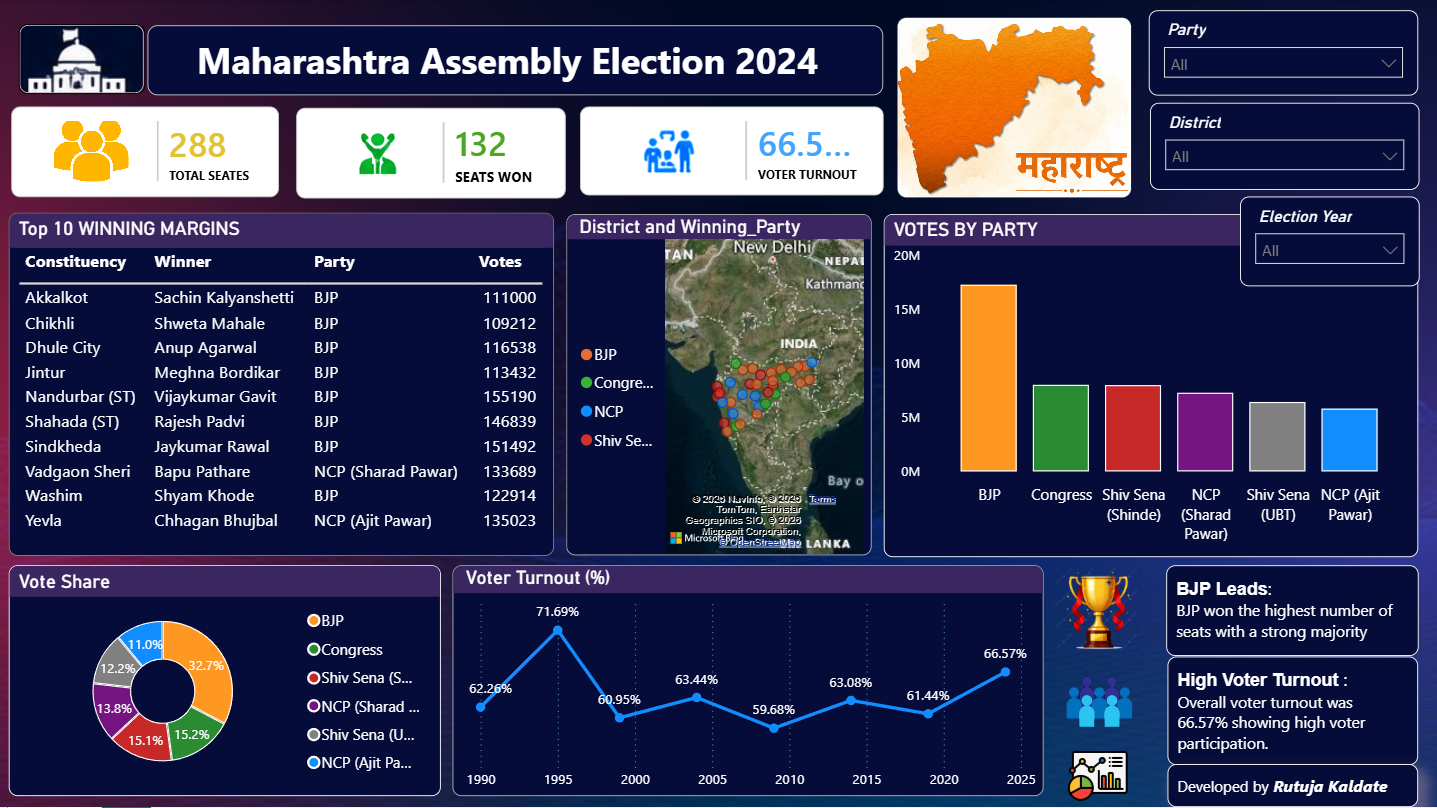

What the dashboard file says about the page in this screenshot:
{"tool":"powerbi","page":{"name":"Page 1","canvas":[1280,720],"ordinal":0},"visuals":[{"type":"columnChart","title":"VOTES BY  PARTY","fields":{"Category":["Sheet1.Party"],"Y":["Sum(Sheet1.Total Votes)"]},"box":[787.2,191.6,476.2,305.4],"z":0},{"type":"donutChart","title":"Vote Share","fields":{"Category":["Sheet1.Party"],"Y":["Sum(Sheet1.Vote Share)"]},"box":[8.3,503.9,384.6,205.5],"z":1000},{"type":"tableEx","title":"Top 10 WINNING MARGINS","fields":{"Values":["Consituancy_Top_10_and _Cards.Constituency","Consituancy_Top_10_and _Cards.Winner","Consituancy_Top_10_and _Cards.Party","Consituancy_Top_10_and _Cards.Votes"]},"box":[8.3,190.2,485.9,305.4],"z":2000},{"type":"cardVisual","fields":{"Data":["Sum(Consituancy_Top_10_and _Cards.TOTAL SEATES)"]},"box":[9.7,95.8,238.8,80.5],"z":3000},{"type":"cardVisual","fields":{"Data":["Sum(Consituancy_Top_10_and _Cards.VOTER TURNOUT)"]},"box":[517,95.8,270.7,79.1],"z":4000},{"type":"lineChart","title":"Voter Turnout (%)","fields":{"Category":["Sheet1.Election Year"],"Y":["Avg(Year_turnout_chief.Voter Turnout (%))"]},"box":[402.6,503.9,526.2,205.5],"z":5000},{"type":"textbox","box":[131.9,23.6,655.3,62.5],"z":6000},{"type":"map","title":"District and Winning_Party","fields":{"Series":["Map_DistrictWise_Win_party.Winning_Party"],"Category":["Map_DistrictWise_Win_party.District"],"Y":["Avg(Map_DistrictWise_Win_party.Latitude)"],"X":["Avg(Map_DistrictWise_Win_party.Longitude)"]},"box":[503.9,191.6,272.1,304],"z":7000},{"type":"image","box":[799.7,16.7,208.2,159.7],"z":8000},{"type":"slicer","fields":{"Values":["Votes_and_Party.Party"]},"box":[1023.6,9.8,240.1,75.8],"z":9000},{"type":"slicer","fields":{"Values":["Map_DistrictWise_Win_party.District"]},"box":[1023.7,92.2,240,77.3],"z":10000},{"type":"textbox","box":[1038.4,503.9,224.9,80.5],"z":11000},{"type":"textbox","box":[1040,585,223.3,96.7],"z":12000},{"type":"image","box":[919,573.4,119.4,108.3],"z":13000},{"type":"image","box":[932.9,503.9,90.2,80.5],"z":14000},{"type":"cardVisual","fields":{"Data":["Sum(Consituancy_Top_10.SEATS  WON)"]},"box":[263.8,97.2,240.2,80.5],"z":15000},{"type":"slicer","fields":{"Values":["Year_turnout_chief.Election Year"]},"box":[1104,176,160,80],"z":16000},{"type":"image","box":[16.7,22.2,112.5,62.5],"z":17000},{"type":"textbox","box":[1040,681.7,223.3,38.3],"z":18000},{"type":"image","box":[928.8,663.6,98.6,56.9],"z":19000}]}

Visuals, with their boxes in screenshot pixels (x1, y1, x2, y2), scaled from the page's 1280x720 canvas onto the 1437x808 screenshot:
"VOTES BY  PARTY" columnChart: (x1=884, y1=215, x2=1418, y2=558)
"Vote Share" donutChart: (x1=9, y1=565, x2=441, y2=796)
"Top 10 WINNING MARGINS" tableEx: (x1=9, y1=213, x2=555, y2=556)
cardVisual - Sum(Consituancy_Top_10_and _Cards.TOTAL SEATES): (x1=11, y1=108, x2=279, y2=198)
cardVisual - Sum(Consituancy_Top_10_and _Cards.VOTER TURNOUT): (x1=580, y1=108, x2=884, y2=196)
"Voter Turnout (%)" lineChart: (x1=452, y1=565, x2=1043, y2=796)
textbox: (x1=148, y1=26, x2=884, y2=97)
"District and Winning_Party" map: (x1=566, y1=215, x2=871, y2=556)
image: (x1=898, y1=19, x2=1132, y2=198)
slicer - Votes_and_Party.Party: (x1=1149, y1=11, x2=1419, y2=96)
slicer - Map_DistrictWise_Win_party.District: (x1=1149, y1=103, x2=1419, y2=190)
textbox: (x1=1166, y1=565, x2=1418, y2=656)
textbox: (x1=1168, y1=656, x2=1418, y2=765)
image: (x1=1032, y1=643, x2=1166, y2=765)
image: (x1=1047, y1=565, x2=1149, y2=656)
cardVisual - Sum(Consituancy_Top_10.SEATS  WON): (x1=296, y1=109, x2=566, y2=199)
slicer - Year_turnout_chief.Election Year: (x1=1239, y1=198, x2=1419, y2=287)
image: (x1=19, y1=25, x2=145, y2=95)
textbox: (x1=1168, y1=765, x2=1418, y2=807)
image: (x1=1043, y1=745, x2=1153, y2=807)
